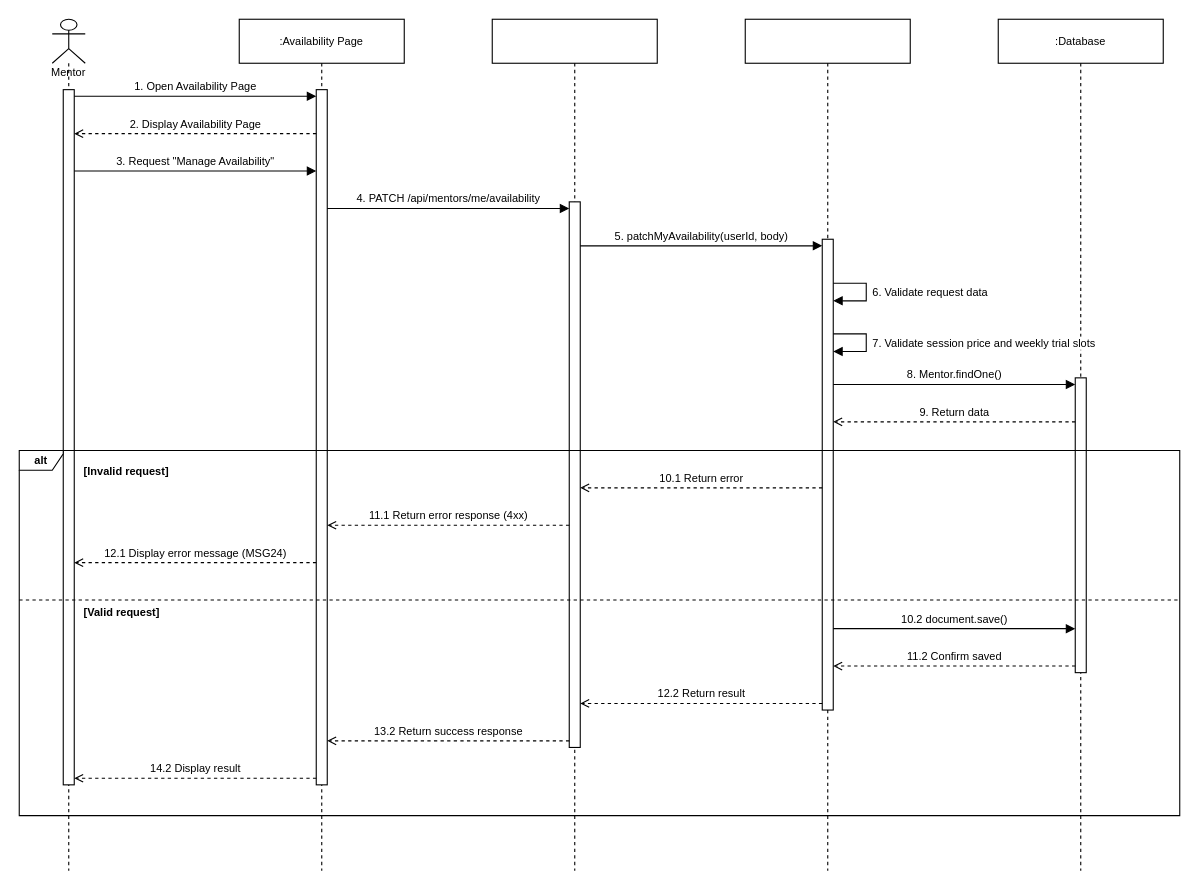
This 1200x890 diagram has some shape labels left out. The box of each missing label's shape, as (x1, y1, x2, y2) in pixels:
:MentorMeController: (491, 18, 657, 871)
:MentorMeService: (744, 18, 910, 871)
